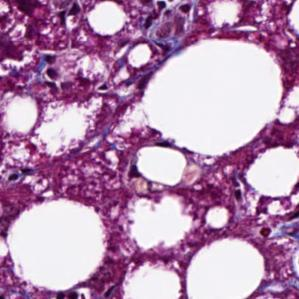inflammation: (132, 0, 204, 35), (37, 47, 71, 83), (52, 288, 94, 299)
